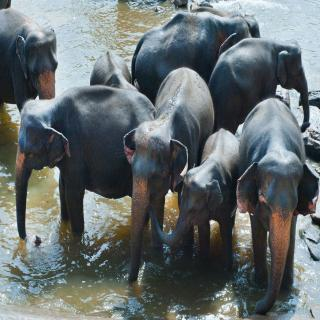Elephant: (10, 81, 158, 256), (122, 66, 218, 286), (236, 96, 317, 316), (146, 126, 242, 269), (207, 35, 320, 133)
